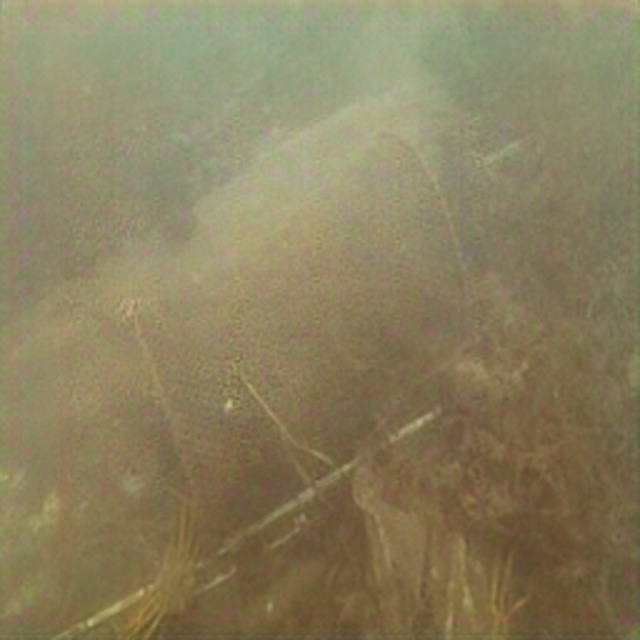mine: (123, 128, 475, 543)
